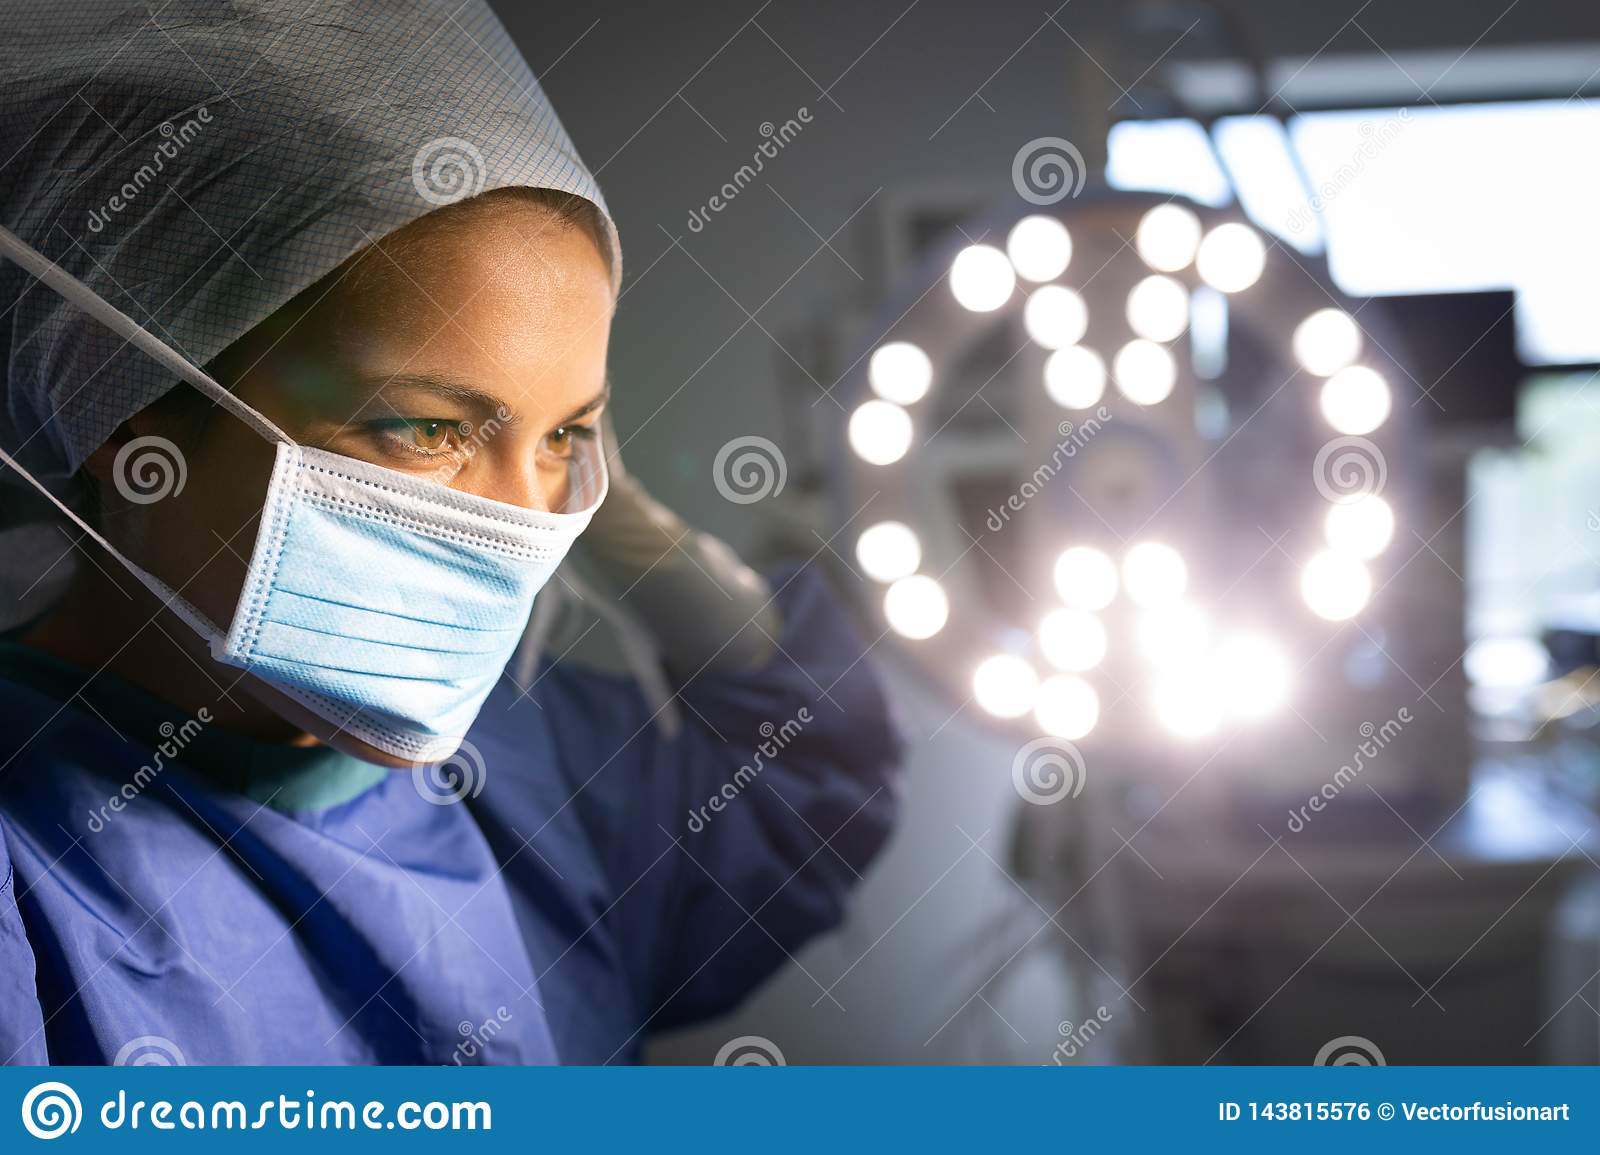mask: (248, 447, 650, 797)
